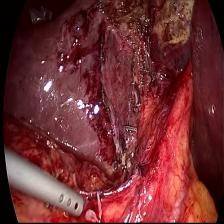Irrigator: (48, 172, 84, 219)
